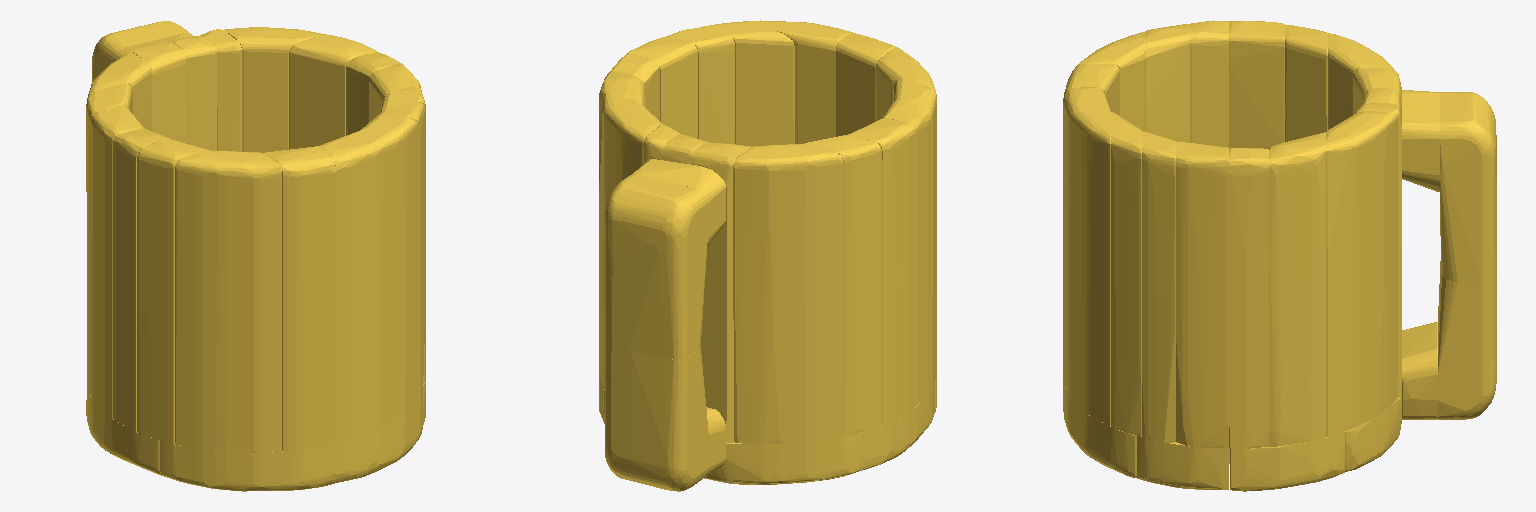
URDF robot description (303.urdf):
<?xml version="1.0" ?>
<robot name="303.urdf">
	<link name="baseLink">
		<inertial>
			<origin rpy="0 0 0" xyz="0 0 0"/>
				<mass value="0.1"/>
				<inertia ixx="6e-5" ixy="0" ixz="0" iyy="6e-5" iyz="0" izz="6e-5"/>
		</inertial>
		<visual>
			<origin rpy="0 0 0" xyz="0 0 0"/>
			<geometry>
				<mesh filename="19_decom_wt.obj" scale="1.00 1.00 0.96"/>
			</geometry>
			<material name="yellow">
				<color rgba="0.98 0.84 0.35 1"/>
			</material>
		</visual>
		<collision>
			<origin rpy="0 0 0" xyz="0 0 0"/>
			<geometry>
				<mesh filename="19_decom_wt.obj" scale="1.00 1.00 0.96"/>
			</geometry>
		</collision>
	</link>
</robot>

--- What the picture shows (computed from the rendered views, not written in the file) ---
Views: 3 orthographic renders of the robot side by side, from view 1: azimuth 30°, elevation 25°; view 2: azimuth 150°, elevation 25°; view 3: azimuth 270°, elevation 25°.
Robot: 303.urdf — 1 links, 0 joints (none); root link baseLink; default pose: every joint at zero.
Links seen in each view (by area): view 1: baseLink; view 2: baseLink; view 3: baseLink.
Boxes of the visible links, box(x1,y1,x2,y2) form: baseLink: box(86, 21, 425, 491); baseLink: box(599, 20, 936, 491); baseLink: box(1063, 20, 1496, 491).
Size in the robot's own frame: 0.086 by 0.109 by 0.0927 metres.
Meshes: 1 distinct files referenced, 1 mesh visuals loaded (1 OBJ).